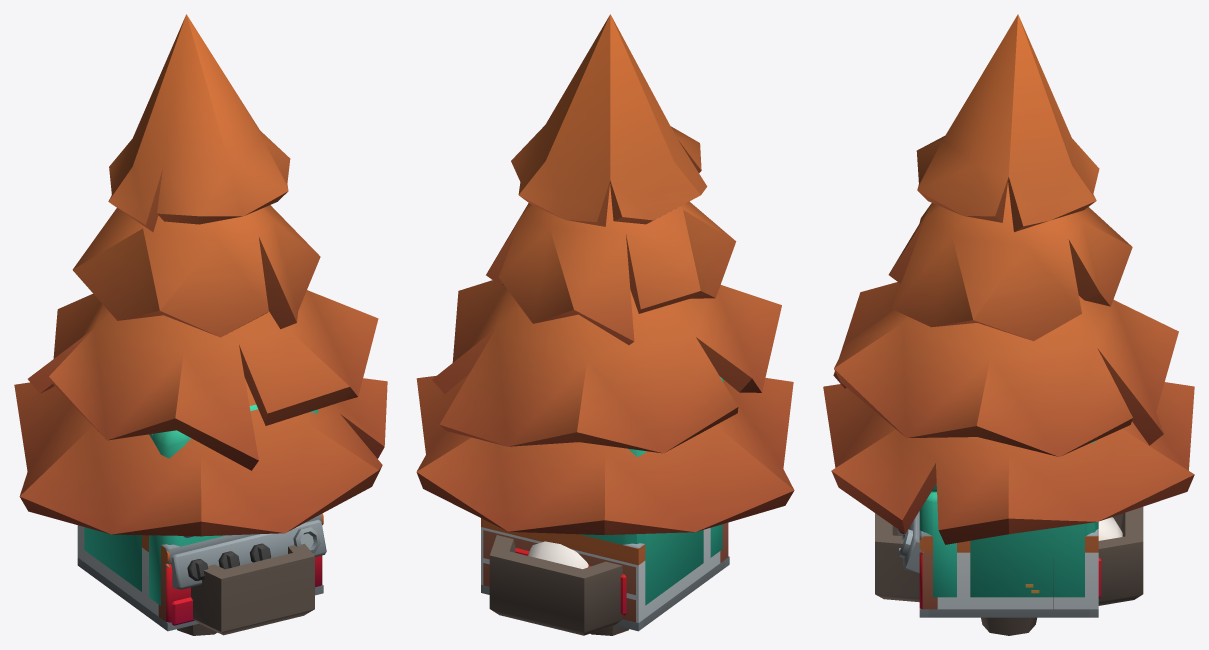
The model's file is kaykit.glb.
3 views of the same model, side by side, from view 1: azimuth 30°, elevation 25°; view 2: azimuth 150°, elevation 25°; view 3: azimuth 270°, elevation 25° (orthographic).
Parts seen in each view (by area): view 1: hall__tree_pine_orange_large, hall__coffin_decorated, rest__stove_multi, rest__fridge_A, rest__kitchencounter_sink, city__building_C; view 2: hall__tree_pine_orange_large, hall__coffin_decorated, rest__kitchencounter_sink, rest__fridge_A, rest__crate_carrots, city__building_C, rest__crate_lettuce; view 3: hall__tree_pine_orange_large, rest__fridge_A, hall__coffin_decorated, rest__kitchencounter_sink, city__building_C, rest__stove_multi, rest__crate_carrots.
Boxes of the visible parts, left/top/right/bottom form: hall__tree_pine_orange_large: left=14, top=14, right=387, bottom=635; hall__coffin_decorated: left=191, top=543, right=314, bottom=635; rest__stove_multi: left=161, top=514, right=326, bottom=625; rest__fridge_A: left=84, top=404, right=318, bottom=605; rest__kitchencounter_sink: left=77, top=513, right=323, bottom=616; city__building_C: left=77, top=558, right=323, bottom=631; hall__tree_pine_orange_large: left=416, top=14, right=794, bottom=635; hall__coffin_decorated: left=489, top=535, right=622, bottom=635; rest__kitchencounter_sink: left=481, top=518, right=720, bottom=622; rest__fridge_A: left=579, top=377, right=723, bottom=605; rest__crate_carrots: left=483, top=523, right=727, bottom=594; city__building_C: left=481, top=556, right=729, bottom=631; rest__crate_lettuce: left=483, top=522, right=727, bottom=622; hall__tree_pine_orange_large: left=823, top=14, right=1194, bottom=635; rest__fridge_A: left=919, top=441, right=1098, bottom=597; hall__coffin_decorated: left=875, top=507, right=1143, bottom=608; rest__kitchencounter_sink: left=919, top=535, right=1098, bottom=609; city__building_C: left=919, top=609, right=1098, bottom=617; rest__stove_multi: left=898, top=511, right=1101, bottom=609; rest__crate_carrots: left=920, top=551, right=937, bottom=606.
Size of the model in its own units: 4.76 by 7.48 by 4.16.
1 material, 1 textured.
